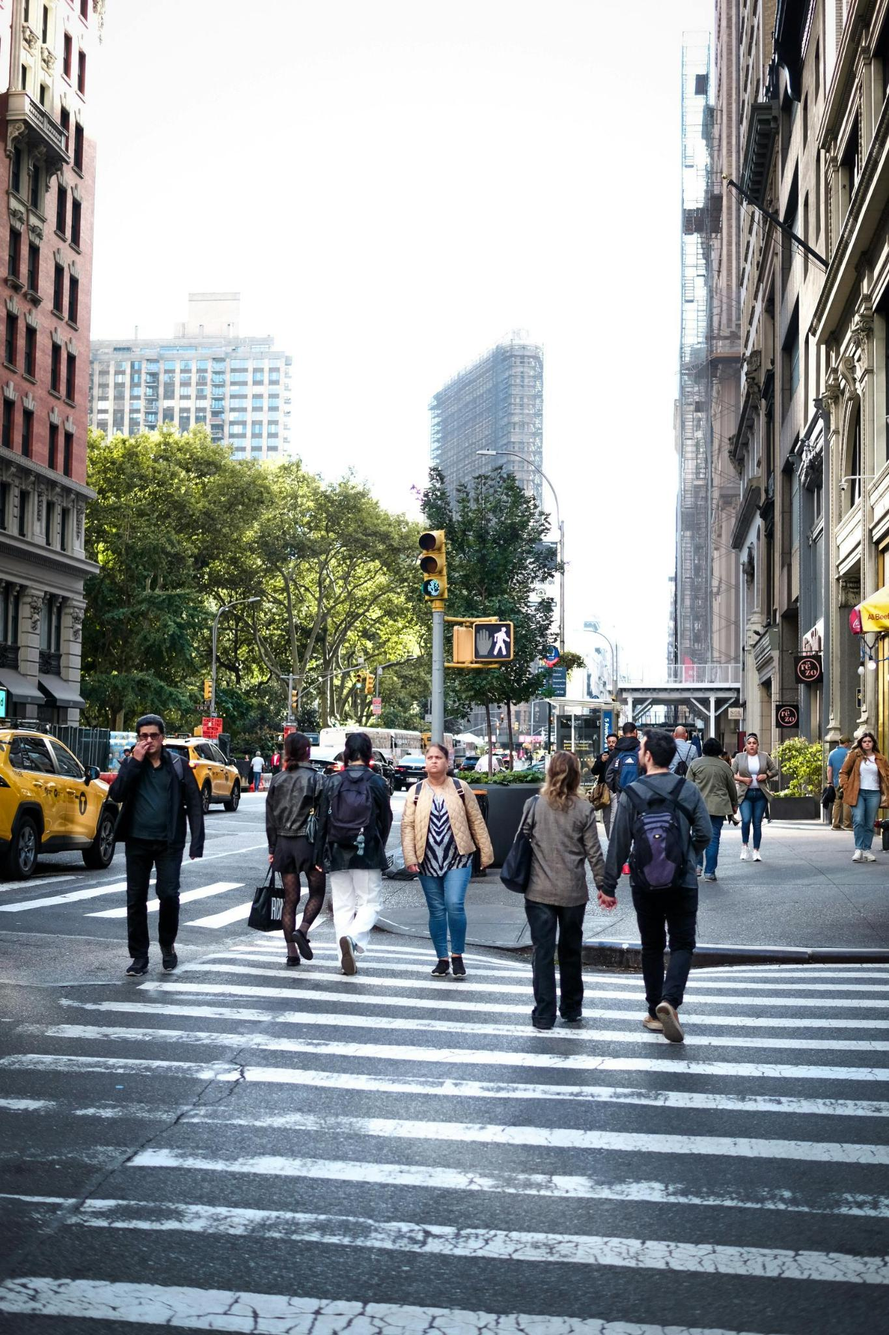car: (0, 727, 114, 877), (165, 737, 245, 813)
pedestrian: (603, 730, 716, 1046), (109, 709, 200, 976), (515, 748, 598, 1030), (407, 741, 497, 977), (324, 729, 389, 972), (267, 723, 331, 963), (688, 730, 736, 877), (737, 727, 776, 859), (852, 735, 885, 863), (826, 735, 847, 826), (672, 720, 700, 777)
